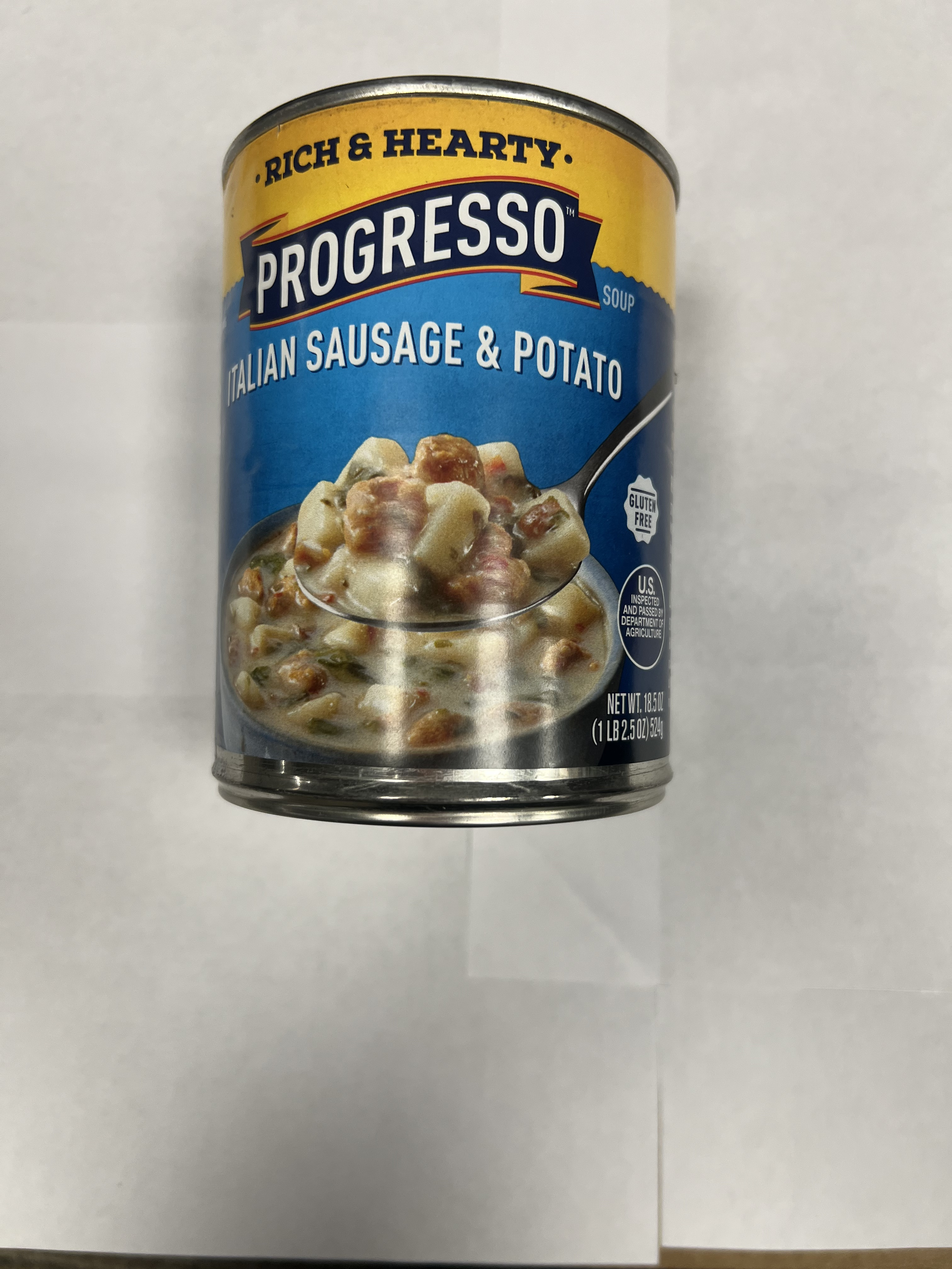packaged: (209, 68, 684, 837)
